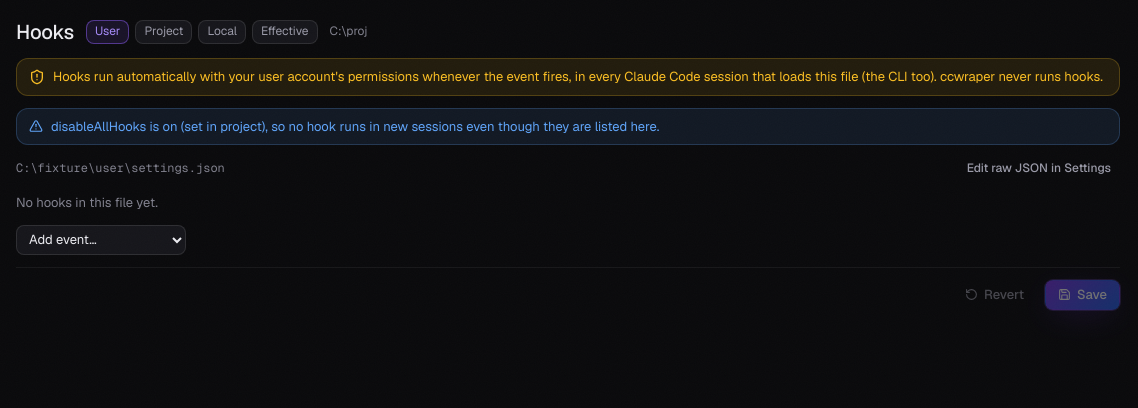
Effective view › merges user + project with source chips and shows the disableAllHooks banner
Expected: the message with test id "hooks-disabled-banner" shows "disableAllHooks is on", x1=51 y1=118 x2=178 y2=134
Click the button "Effective" at (285,32), box x1=252 y1=20 x2=318 y2=44
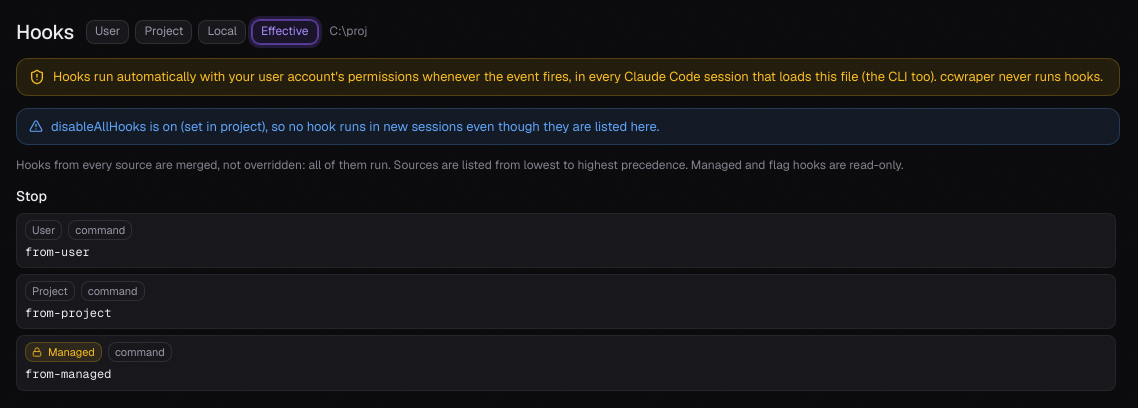
Expected: the element named "Effective Stop" shows "from-user", x1=25 y1=244 x2=90 y2=260
Expected: the element named "Effective Stop" shows "from-project", x1=25 y1=305 x2=111 y2=321
Expected: the element named "Effective Stop" shows "from-managed", x1=25 y1=366 x2=111 y2=382
